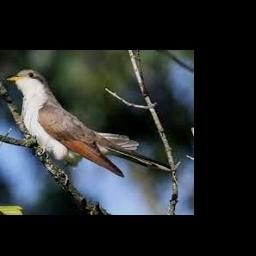Cuckoo: (6, 69, 139, 178)
